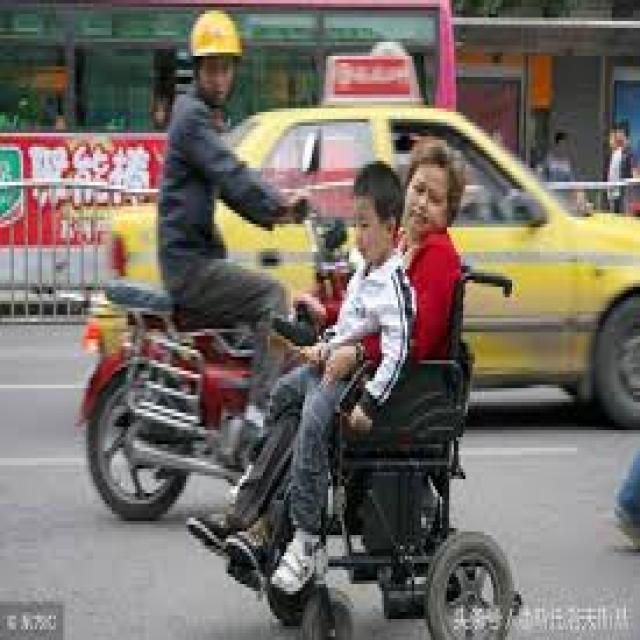wheelchairs: (244, 259, 533, 636)
